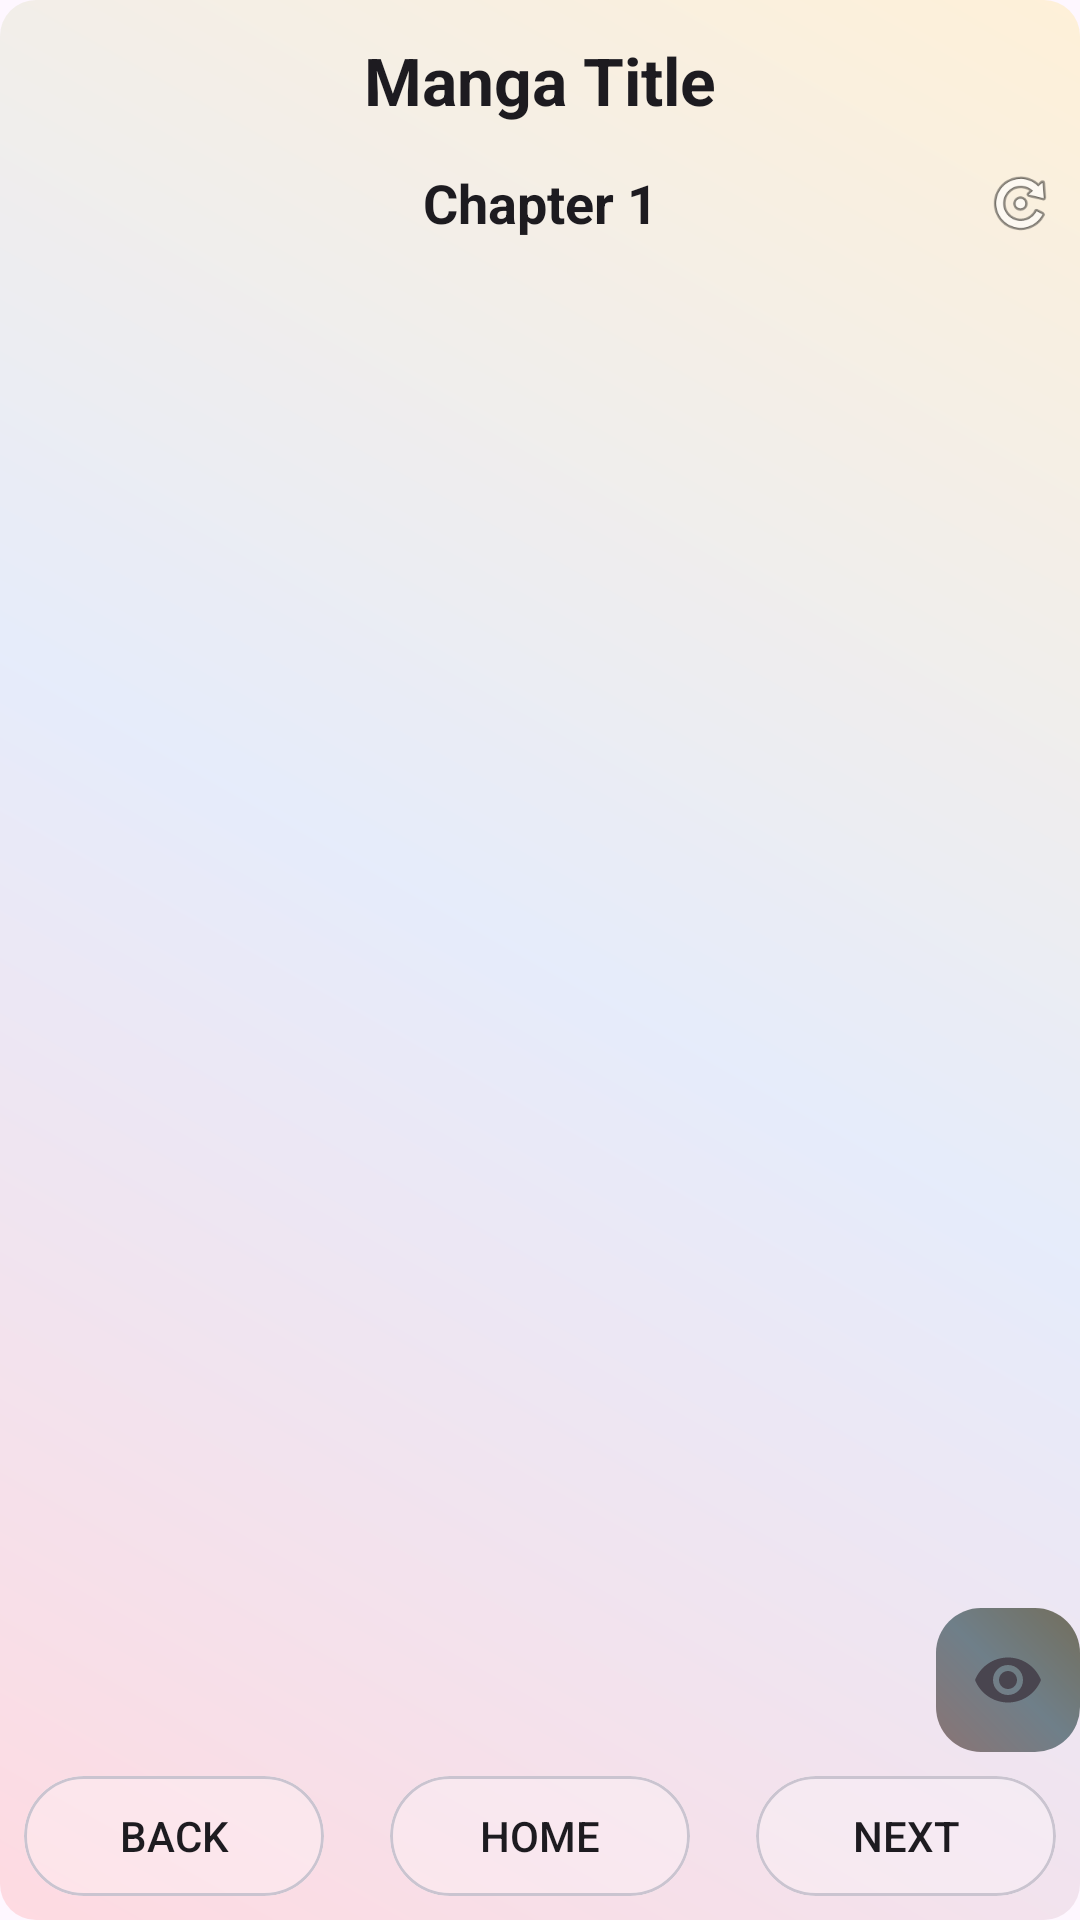

Screen size 1080 × 1920. Icon name, then its center in pixels as [x,y]:
Refresh: [1020,203]
Toggle UI: [1008,1680]
